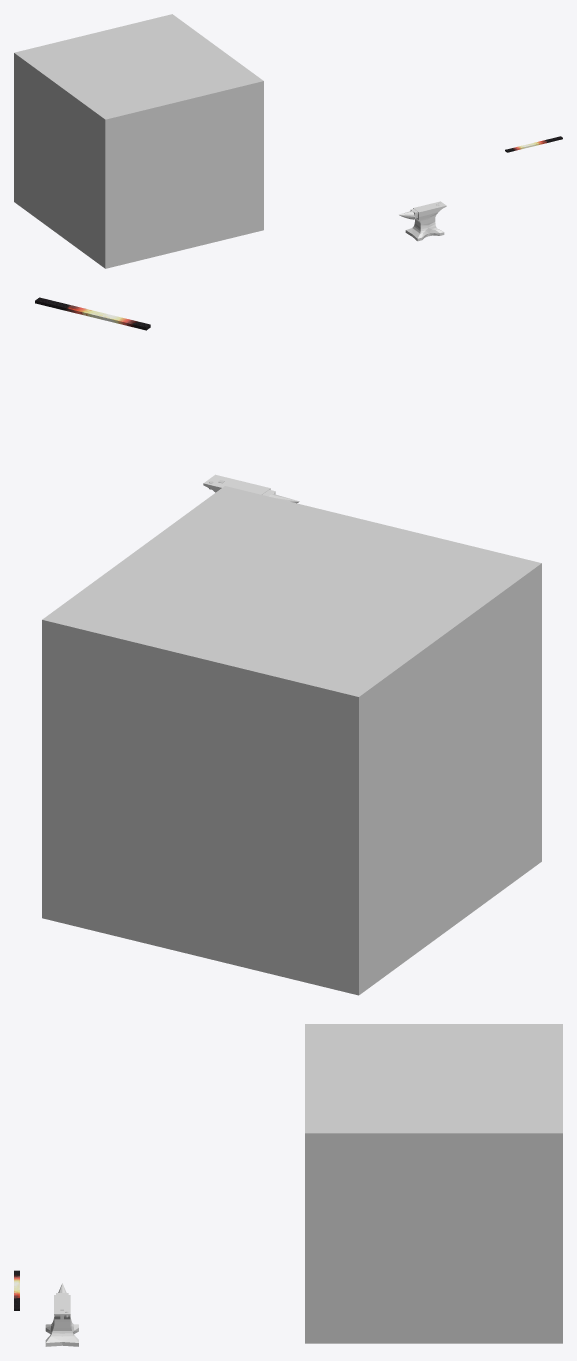
File: ironhotmiddle.dae
3 views of the same model, one above another, from view 1: azimuth 30°, elevation 25°; view 2: azimuth 150°, elevation 25°; view 3: azimuth 270°, elevation 25° (orthographic). The views are drawn at different scales.
Visible parts, largest first — view 1: Cube_004, Cube_002; view 2: Cube_004, IronHotMiddle; view 3: Cube_004, Cube_002.
Boxes of the visible parts, box(x1,y1,x2,y2) form: Cube_004: box(14, 14, 263, 268); Cube_002: box(399, 201, 446, 241); Cube_004: box(42, 486, 541, 995); IronHotMiddle: box(35, 297, 150, 330); Cube_004: box(305, 1024, 562, 1343); Cube_002: box(45, 1283, 78, 1346).
Size of the model in its own units: 4.47 by 4.26 by 1.8.
Materials: 1 (1 with a texture image).
